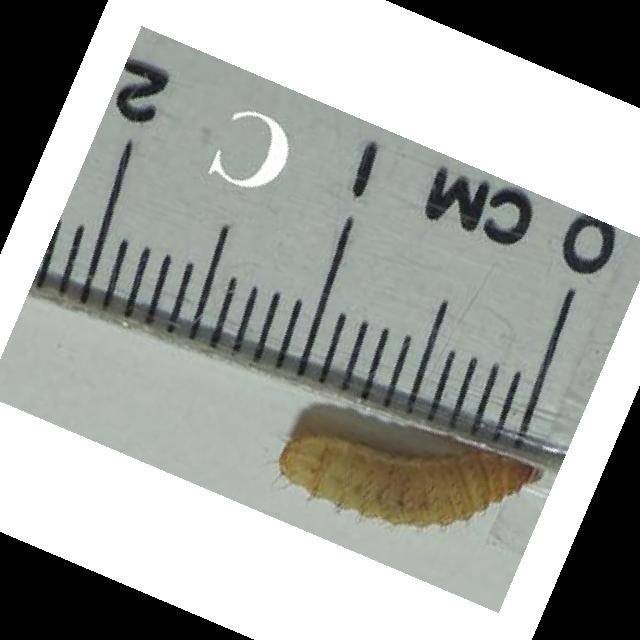Maggot: (275, 426, 548, 532)
